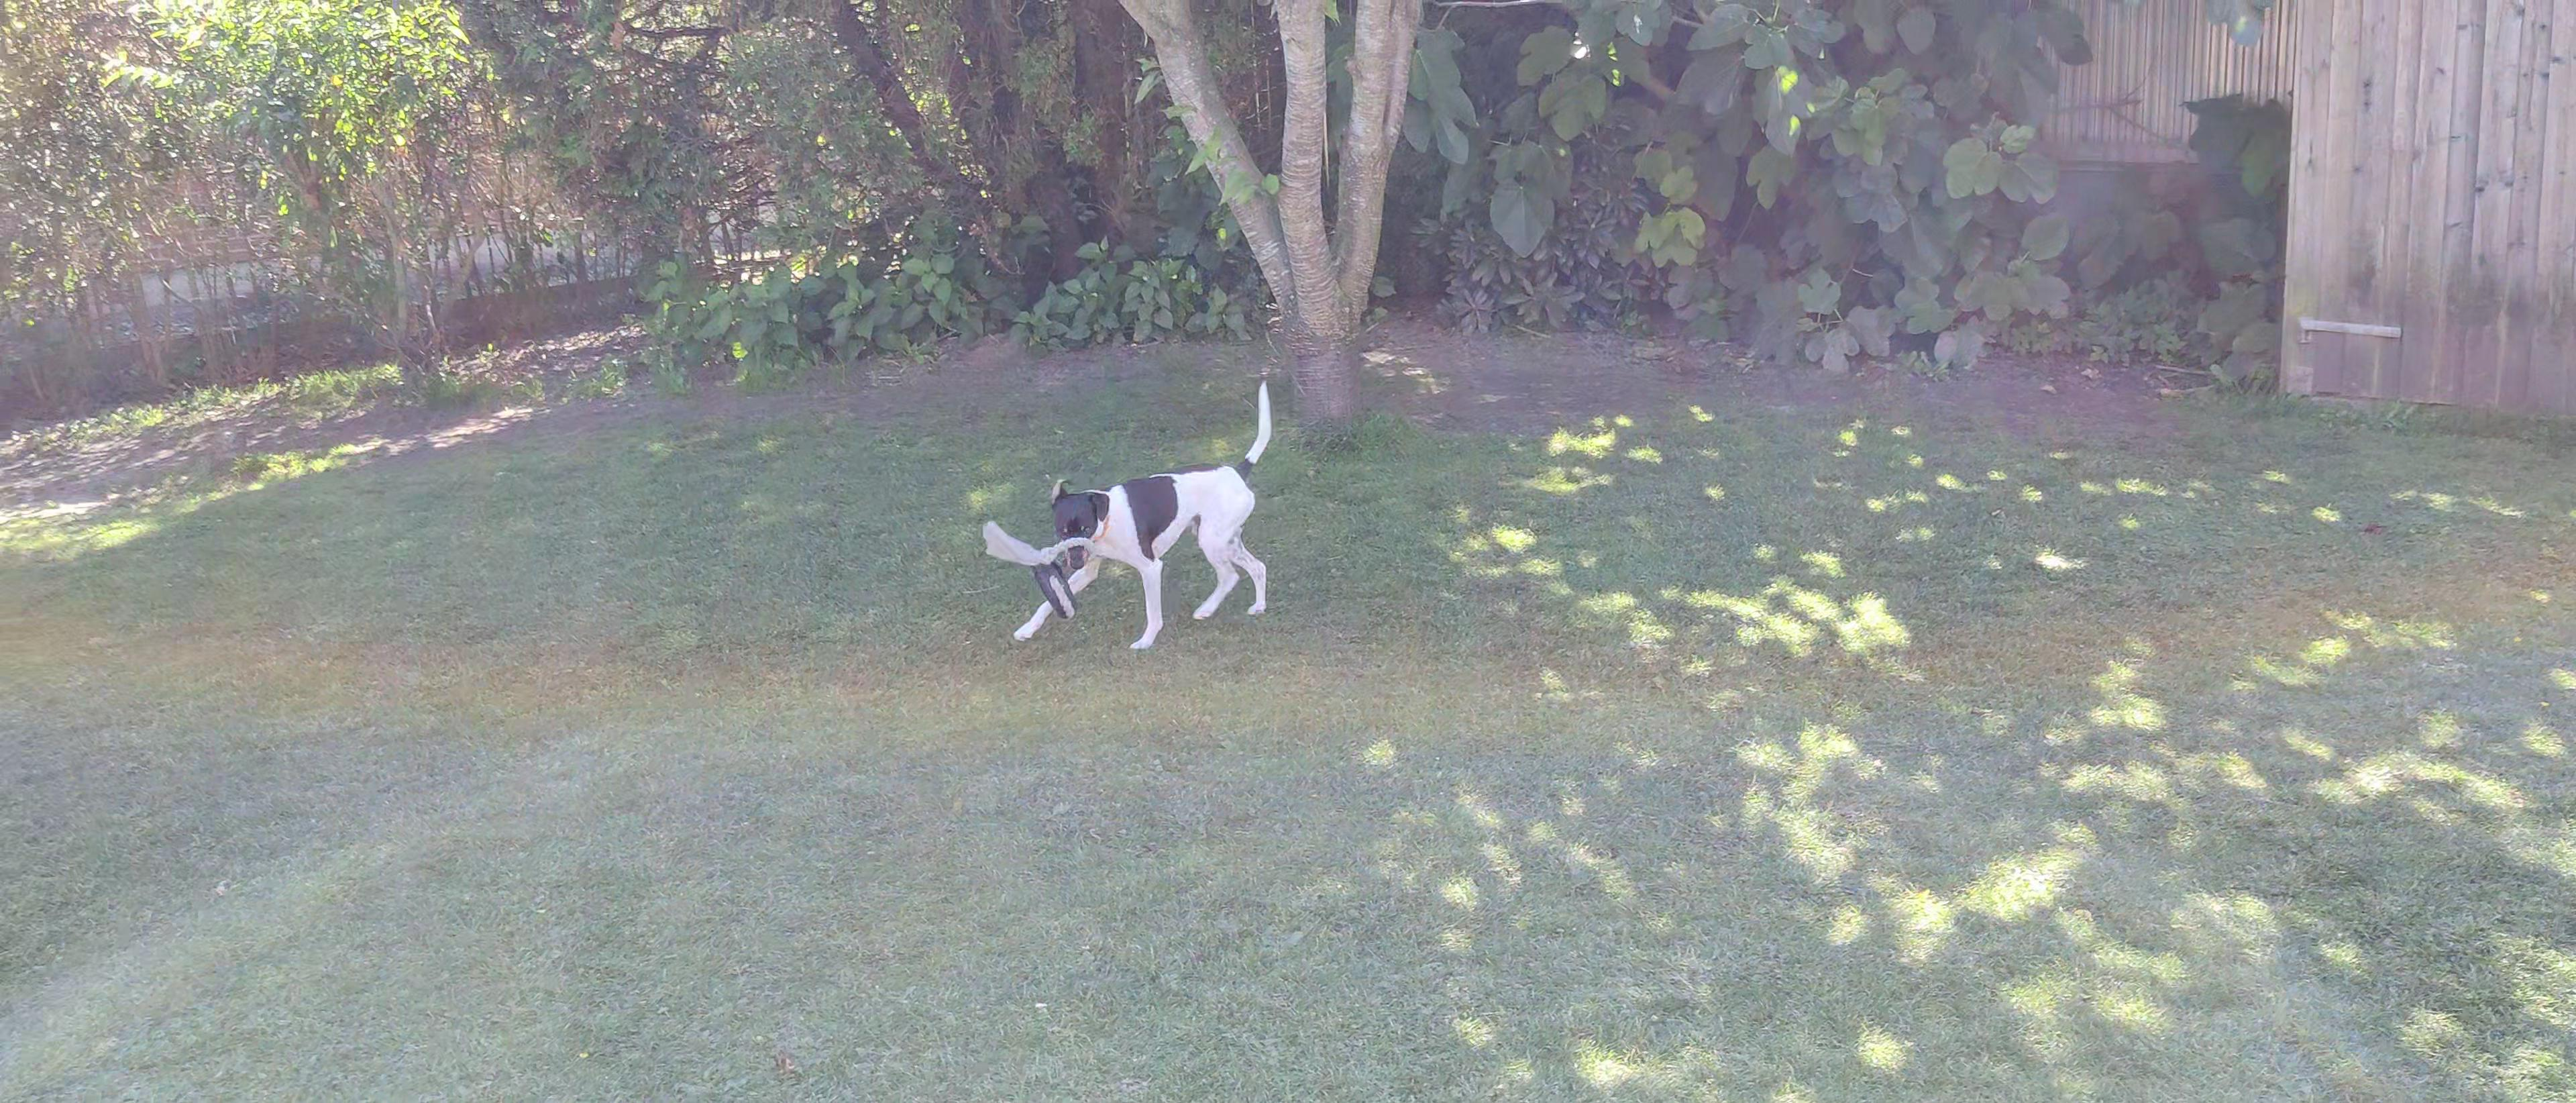Dog: (1007, 376, 1278, 646)
